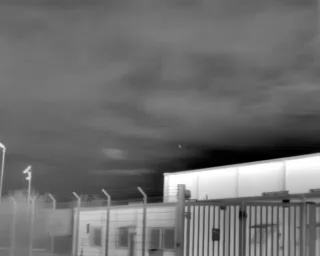HELICOPTER: (176, 141, 185, 151)
